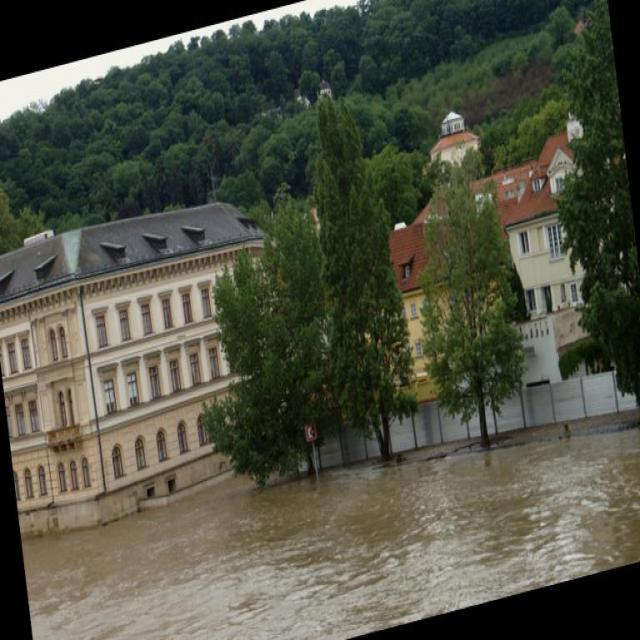flood: (23, 367, 639, 639)
